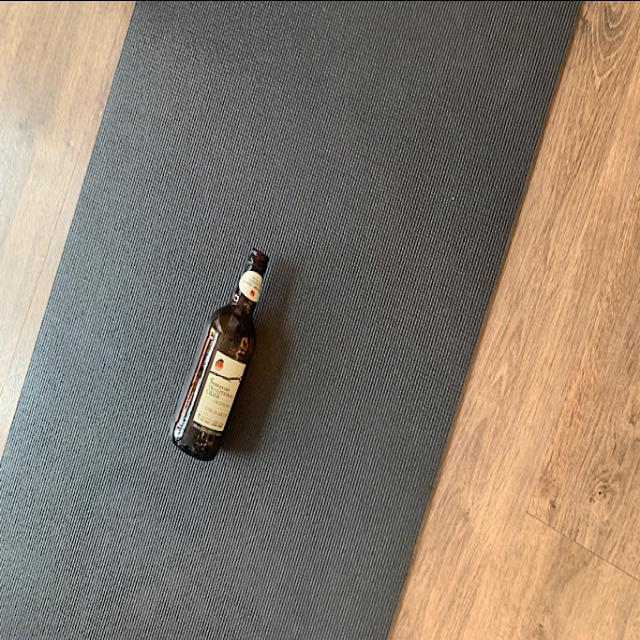Glass Bottle: (170, 245, 274, 464)
